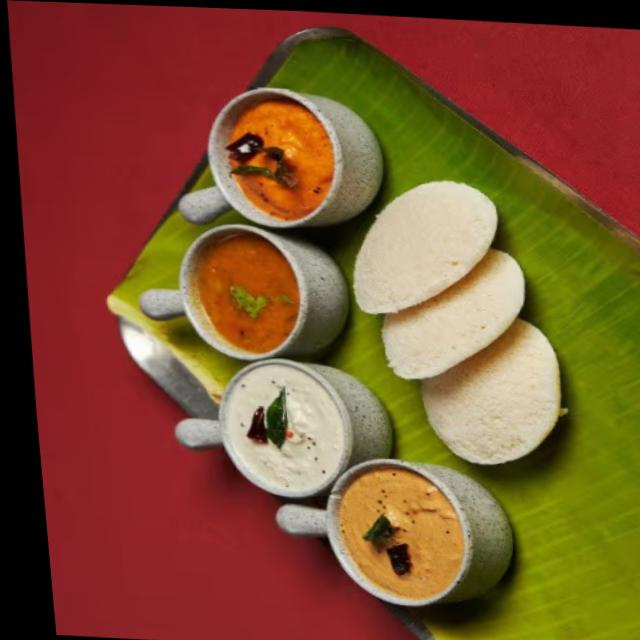IDLI: (338, 170, 568, 465)
RED CHUTNEY: (329, 466, 471, 602), (205, 85, 335, 218)
SAMBAR: (182, 224, 303, 354)
WHITE CHUTNEY: (212, 361, 350, 494)
